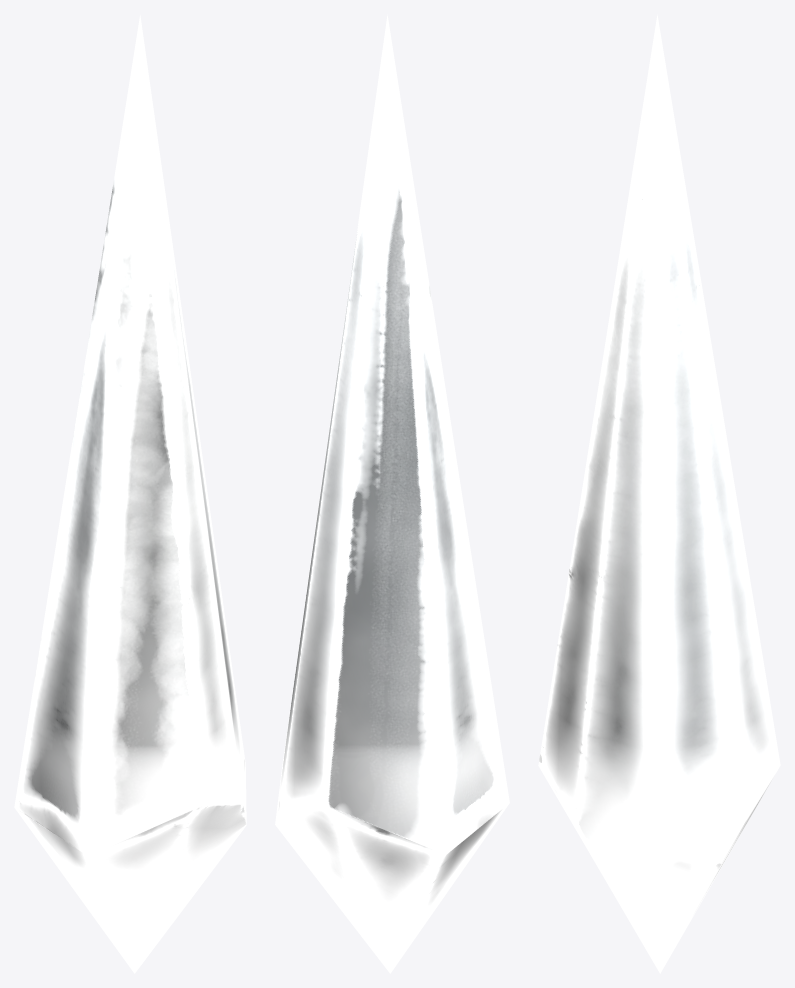
The model's file is crystal_sharp_single_white.fbx.
3 views of the same model, side by side, from view 1: azimuth 30°, elevation 25°; view 2: azimuth 150°, elevation 25°; view 3: azimuth 270°, elevation 25° (orthographic).
Visible parts, largest first — view 1: crystal_sharp_single_white; view 2: crystal_sharp_single_white; view 3: crystal_sharp_single_white.
Boxes of the visible parts, left/top/right/bottom form: crystal_sharp_single_white: left=14, top=15, right=246, bottom=973; crystal_sharp_single_white: left=275, top=14, right=509, bottom=973; crystal_sharp_single_white: left=538, top=14, right=780, bottom=973.
Bounding box in the file's own units: 0.3176 × 1.48 × 0.3367.
